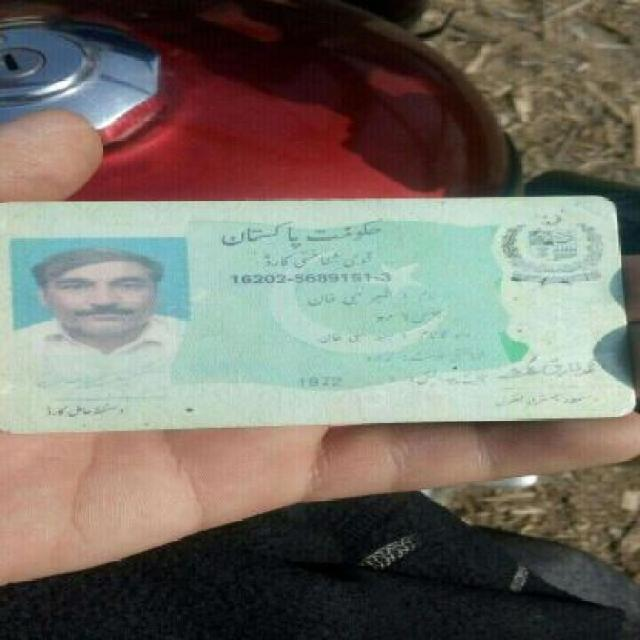Front: (9, 175, 638, 434)
